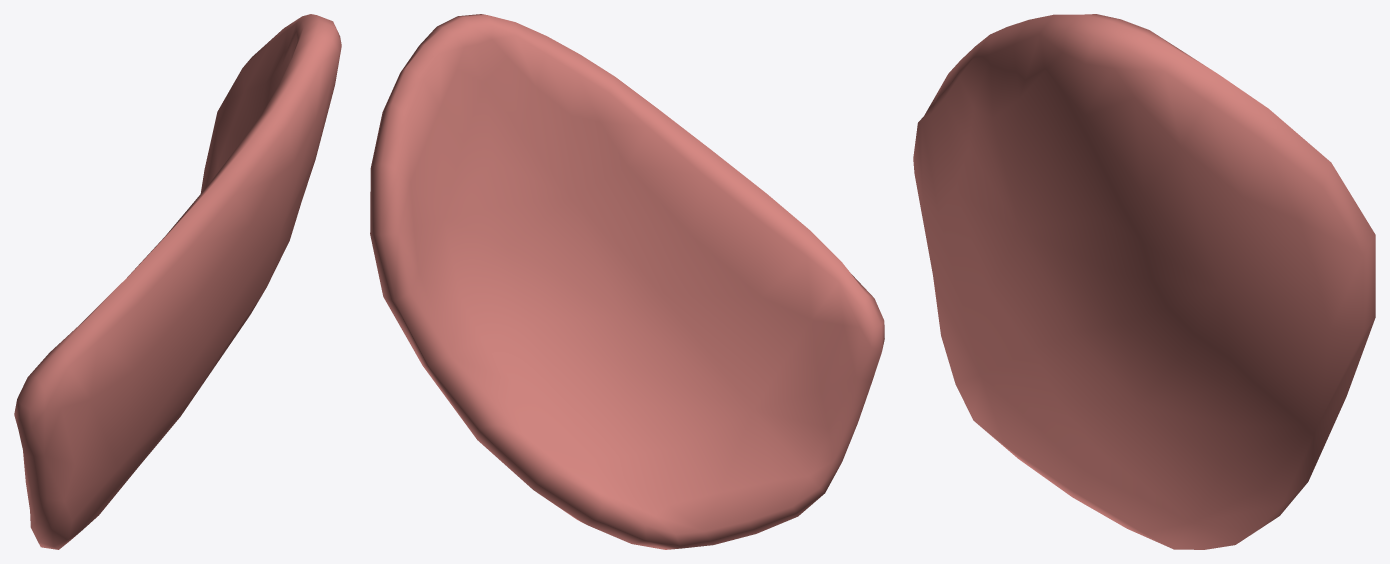
The picture shows the model from 3 angles, left to right: view 1: azimuth 30°, elevation 25°; view 2: azimuth 150°, elevation 25°; view 3: azimuth 270°, elevation 25°; orthographic projection. The views are drawn at different scales.
Parts seen in each view (by area): view 1: ZA_afcb03832ff4ffa2; view 2: ZA_afcb03832ff4ffa2; view 3: ZA_afcb03832ff4ffa2.
Part boxes in pixels (<box>): ZA_afcb03832ff4ffa2: <box>14,14,341,549</box>; ZA_afcb03832ff4ffa2: <box>370,14,884,549</box>; ZA_afcb03832ff4ffa2: <box>913,14,1375,549</box>.
Size of the model in its own units: 0.00467 by 0.00526 by 0.00324.
